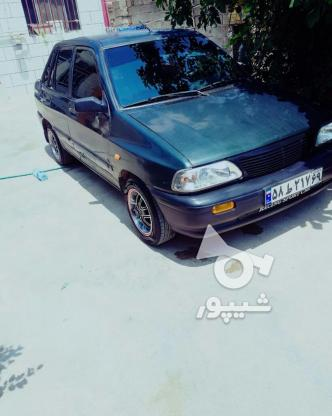car: (265, 166, 324, 207)
